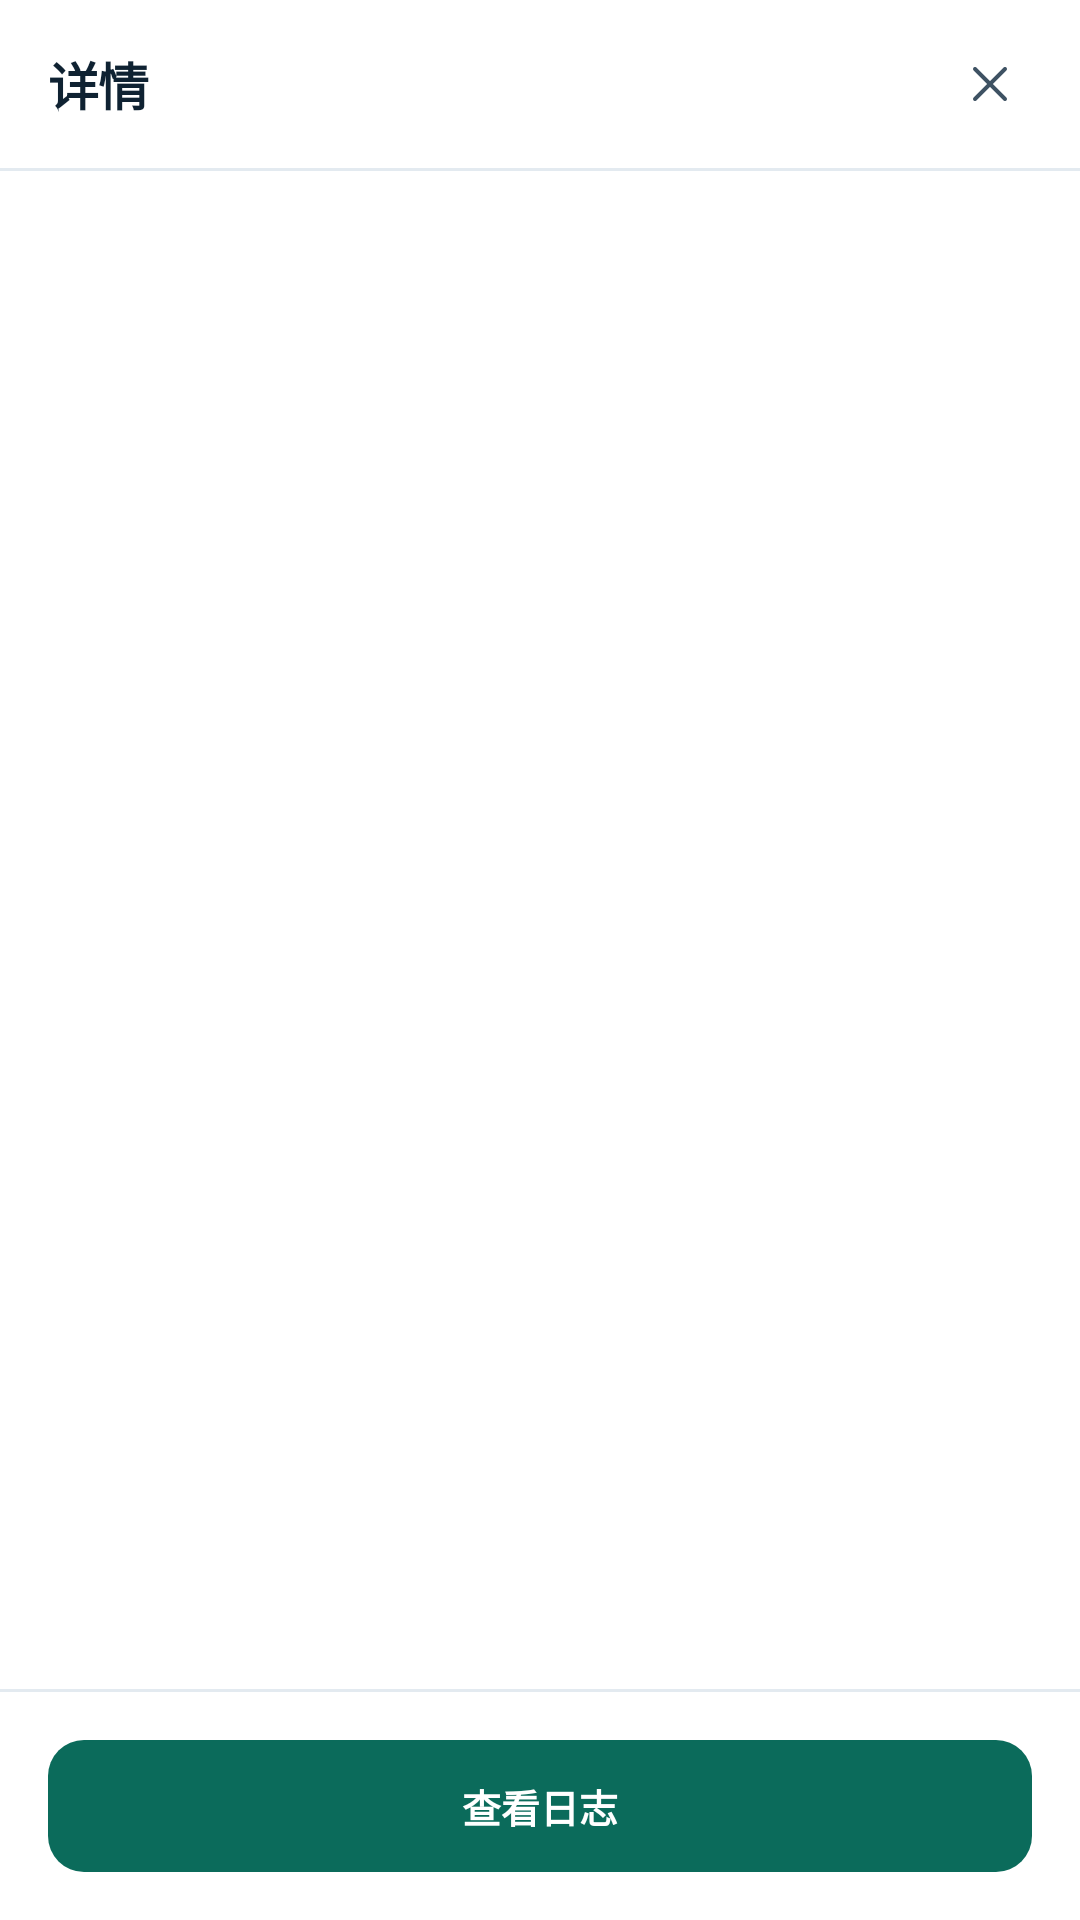

Named icons in this screenshot (1080 × 1920) and their bounding boxes, {"left": x1, "top": y1, "right": x2, "bottom": y2}:
关闭: {"left": 973, "top": 67, "right": 1007, "bottom": 101}
